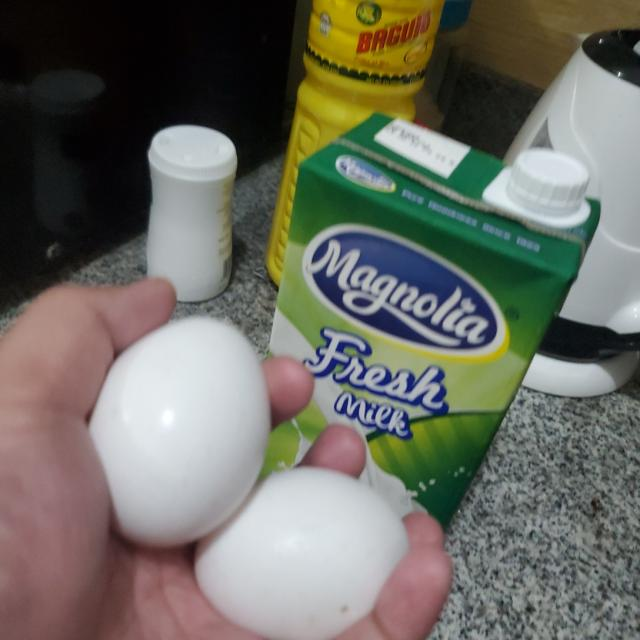egg: (93, 320, 271, 546), (196, 471, 416, 638)
milk: (262, 112, 602, 528)
